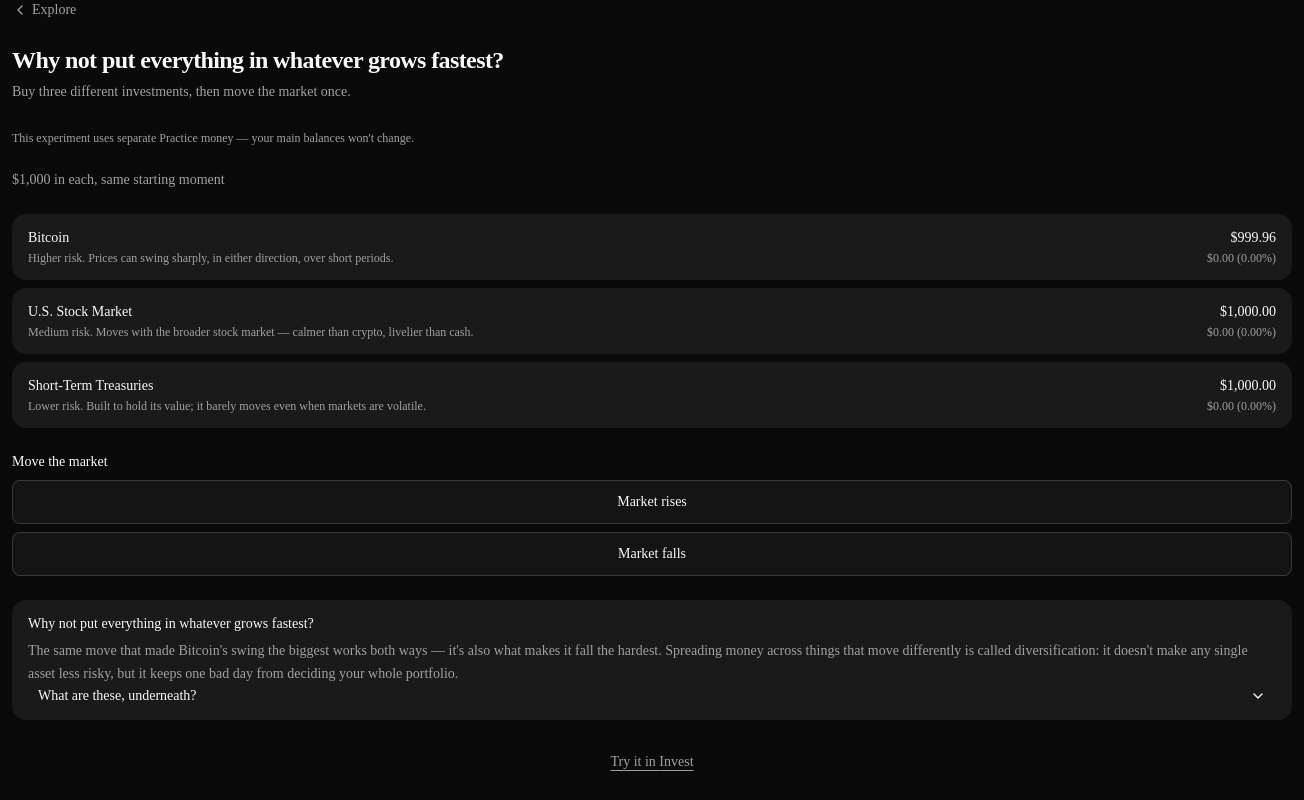
Test: RiskExperiment › reset restores every holding to its starting value
The image size is (1304, 800).
Click the button "Market falls". click: (652, 554)
box: [12,532,1292,576]
(page scrolled)
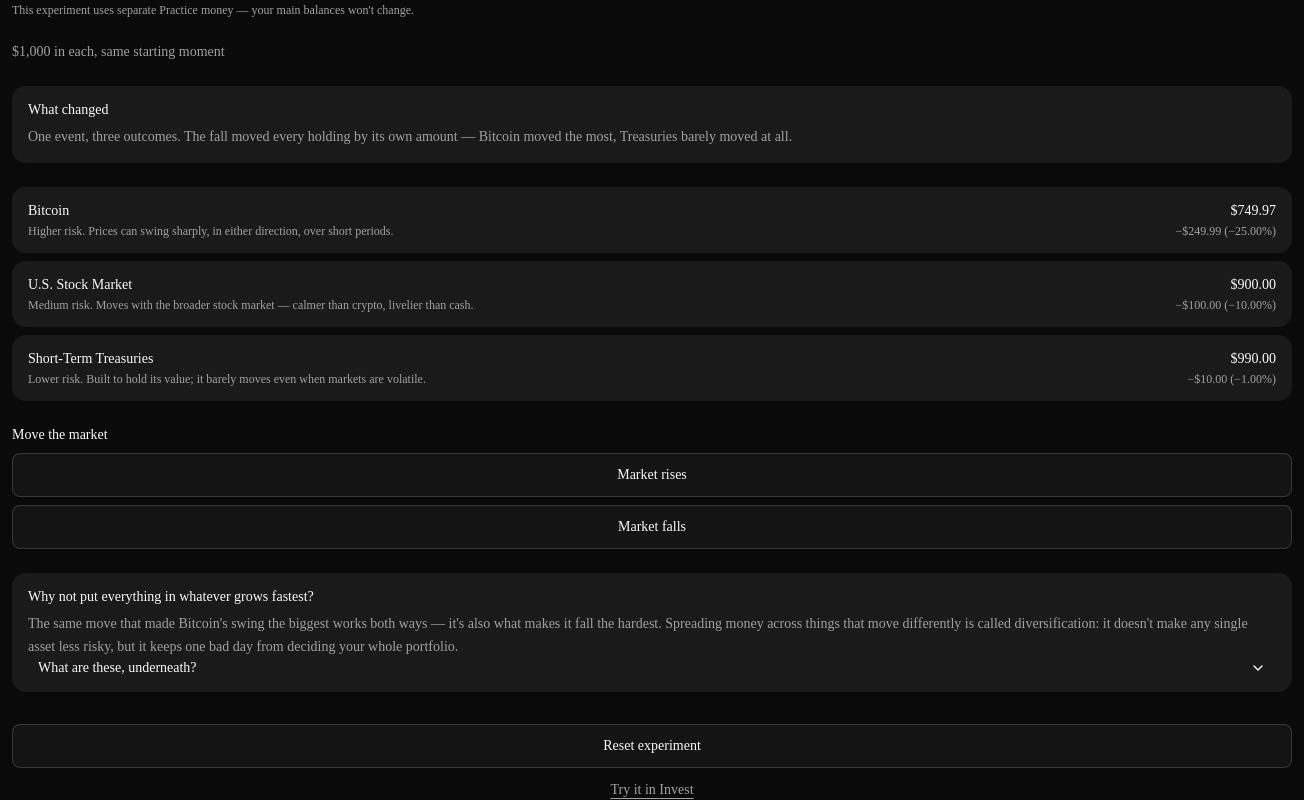
Click the button "Reset experiment". click: (652, 746)
box: [12,724,1292,768]
(page scrolled)
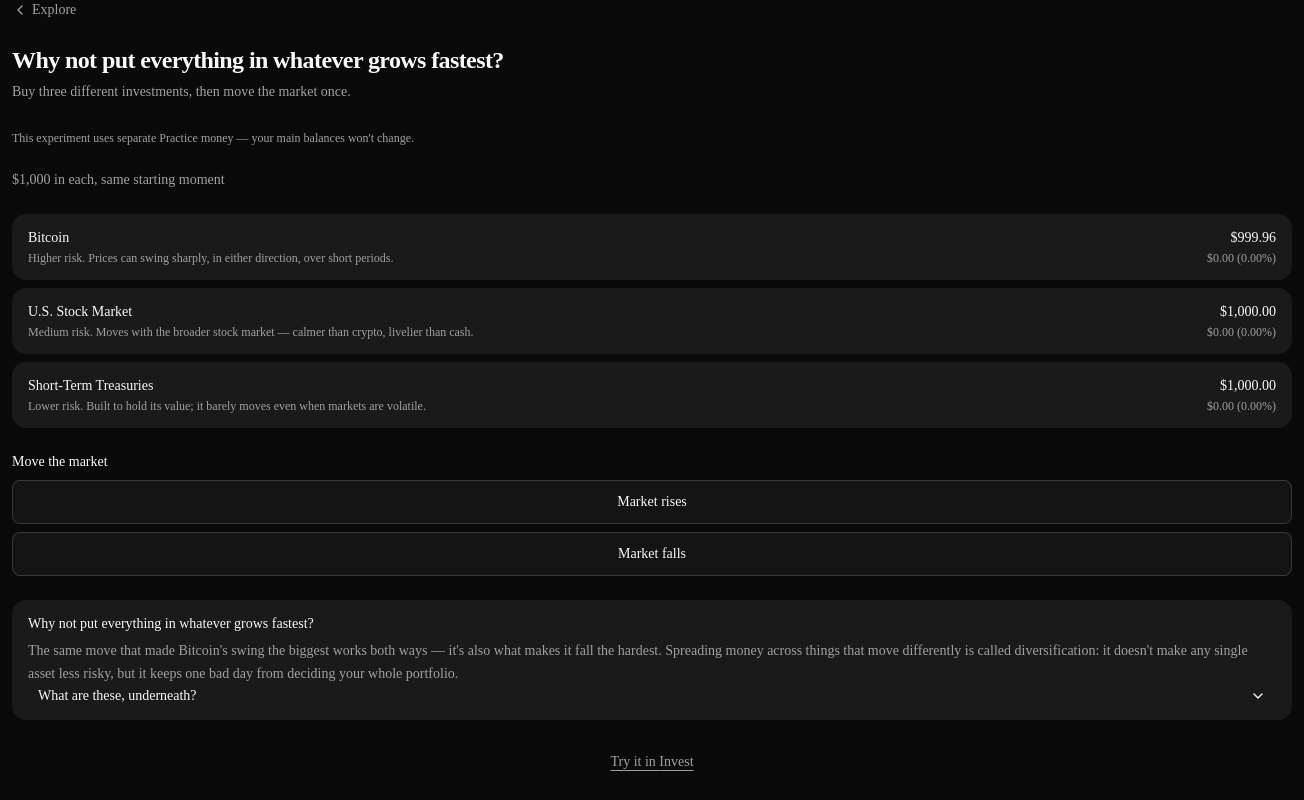
expect the list item with test id "risk-holding-BROAD" shows "$1,000.00": met, box [1220,304,1276,319]
expect the text "What changed" is gone: met
